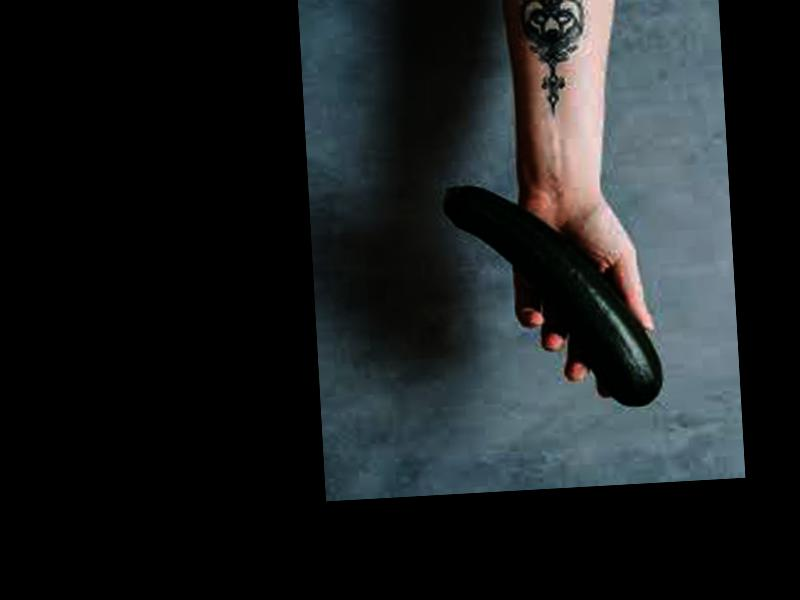Cucumber: (443, 177, 662, 416)
